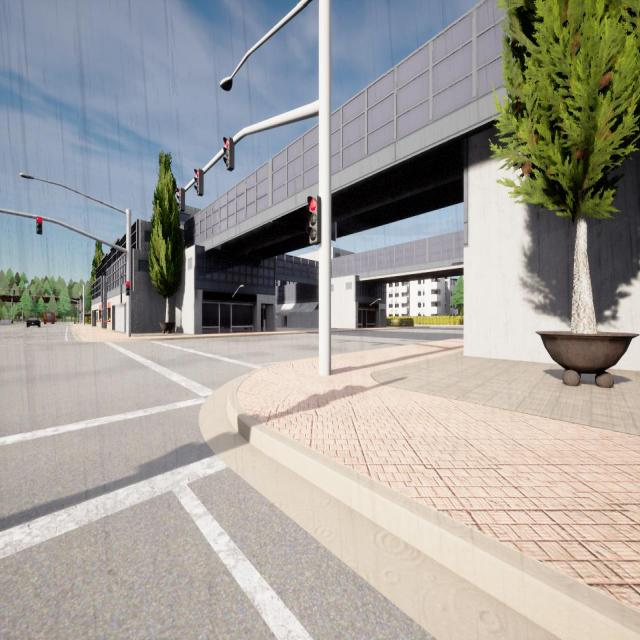Vehicle: (26, 314, 41, 328), (43, 310, 55, 324)
traffic_light: (307, 196, 321, 245), (223, 137, 235, 171), (194, 168, 204, 196), (177, 188, 185, 212), (36, 216, 42, 235), (126, 282, 130, 296), (29, 290, 31, 296), (13, 290, 15, 295), (79, 310, 81, 314), (44, 296, 46, 300), (32, 296, 33, 300), (81, 294, 82, 298), (58, 296, 59, 300), (80, 296, 81, 299)
